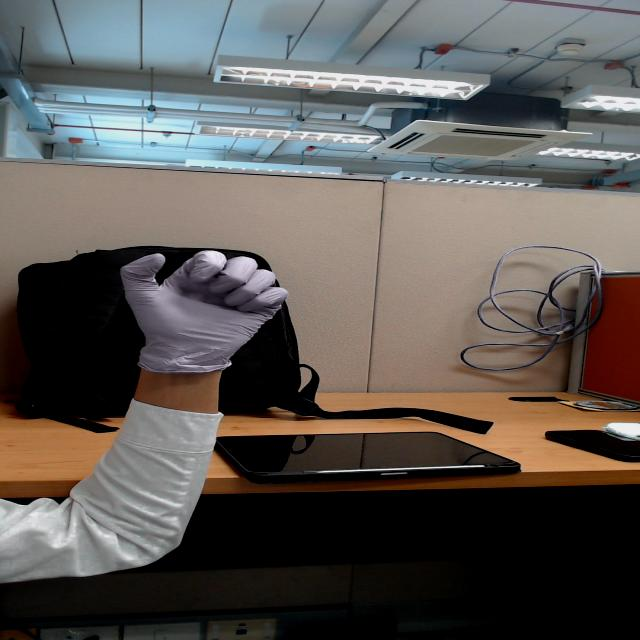glove: (105, 235, 325, 334)
